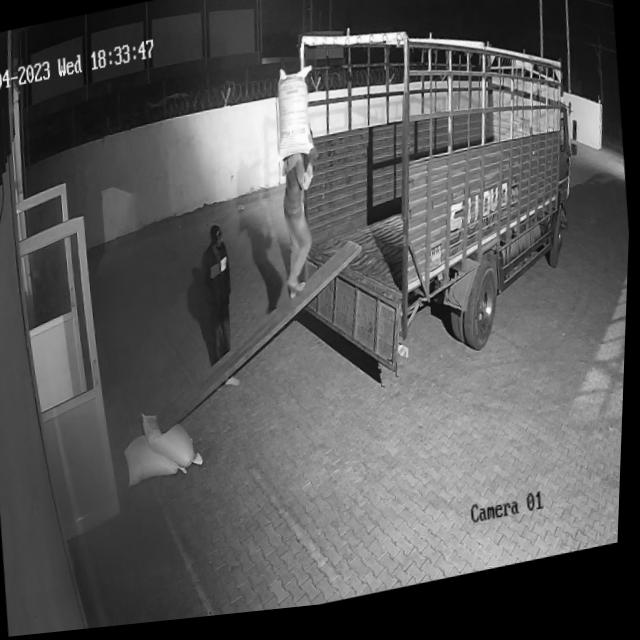sack: (270, 68, 321, 169), (140, 403, 207, 479), (125, 428, 192, 489)
